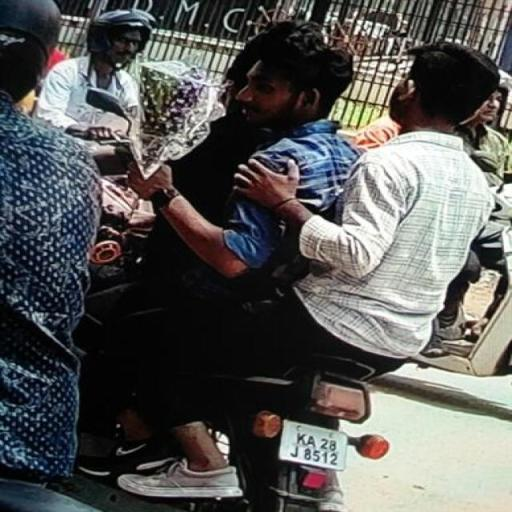tripple riding: (112, 17, 512, 377)
